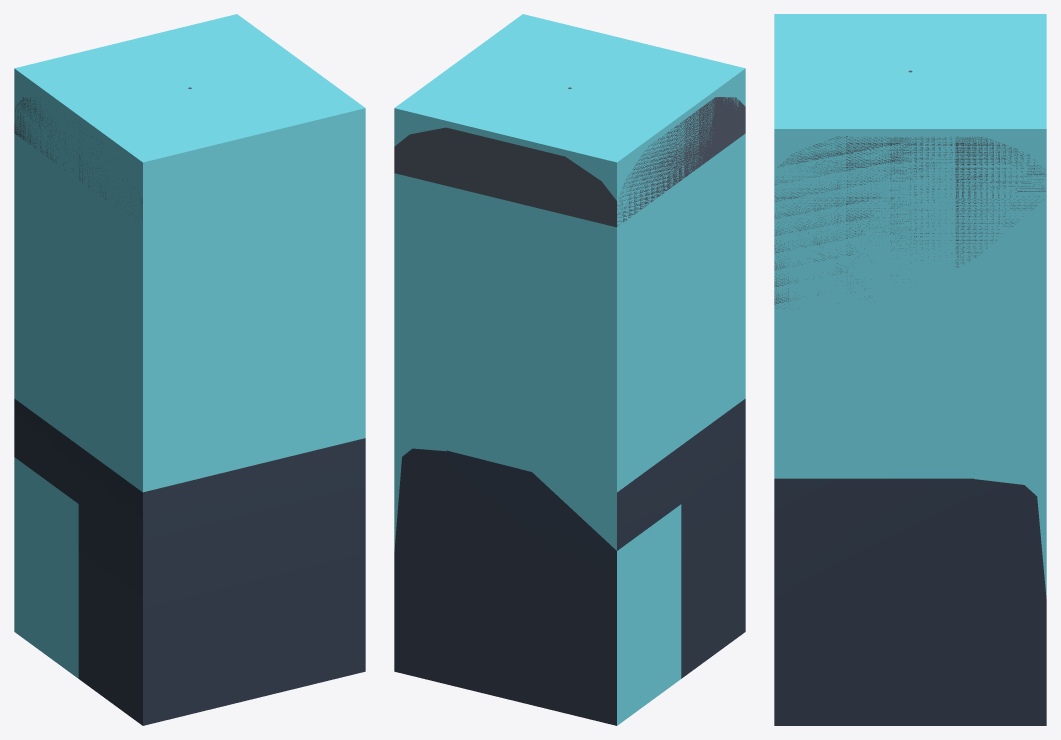
The model's file is PBOX1_MudFlA_05.FBX.
The picture shows the model from 3 angles, left to right: view 1: azimuth 30°, elevation 25°; view 2: azimuth 150°, elevation 25°; view 3: azimuth 270°, elevation 25°; orthographic projection. The views are drawn at different scales.
Parts seen in each view (by area): view 1: PBOX1_MudFlA_05, PBOX1_SUB_TAB_MudFlA_005, PBOX1_MudFlA_06; view 2: PBOX1_MudFlA_05, PBOX1_SUB_TAB_MudFlA_005, PBOX1_MudFlA_06; view 3: PBOX1_MudFlA_05, PBOX1_SUB_TAB_MudFlA_005, PBOX1_MudFlA_06.
Part boxes in pixels (x1,y1,x2,y2): PBOX1_MudFlA_05: (14, 14, 365, 678); PBOX1_SUB_TAB_MudFlA_005: (14, 398, 365, 725); PBOX1_MudFlA_06: (14, 87, 191, 221); PBOX1_MudFlA_05: (394, 14, 745, 725); PBOX1_SUB_TAB_MudFlA_005: (394, 398, 745, 725); PBOX1_MudFlA_06: (394, 87, 745, 227); PBOX1_MudFlA_05: (774, 14, 1046, 598); PBOX1_SUB_TAB_MudFlA_005: (774, 478, 1046, 725); PBOX1_MudFlA_06: (774, 70, 1045, 308).
Bounding box in the file's own units: 6 × 14.5 × 6.
